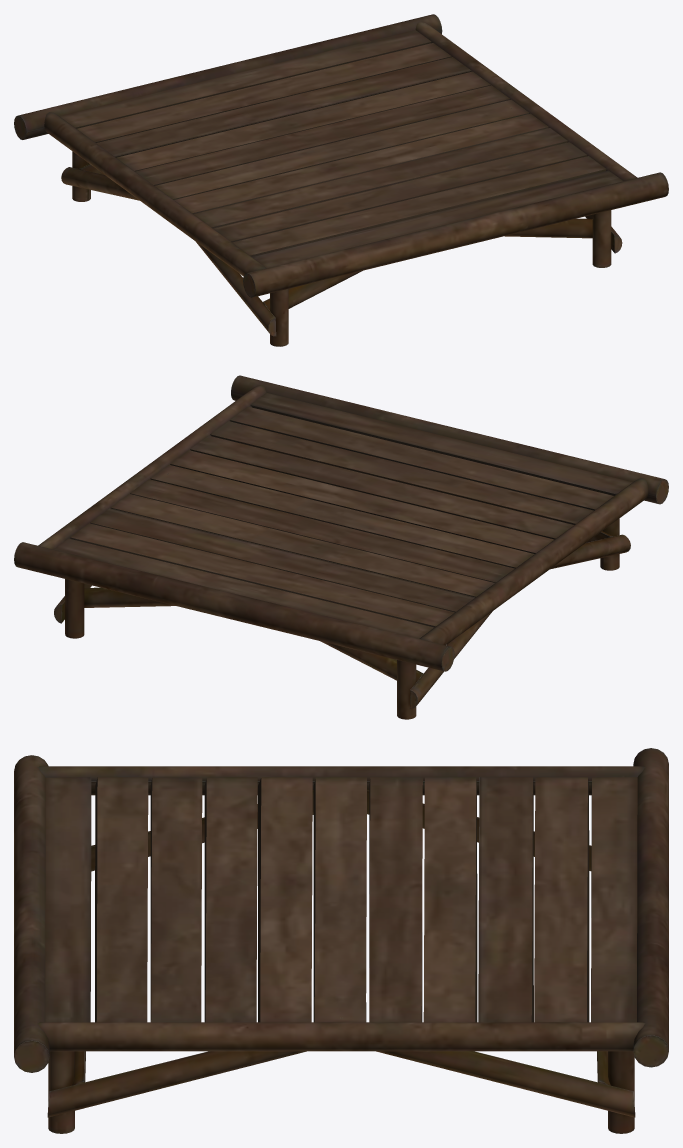
File: low_wooden_bench.glb
3 renders of one model, top to bottom at view 1: azimuth 30°, elevation 25°; view 2: azimuth 150°, elevation 25°; view 3: azimuth 270°, elevation 25°, orthographic. The views are drawn at different scales.
Parts seen in each view (by area): view 1: SM_Low_Wooden_Bench_M_Low_Wooden_Bench_0; view 2: SM_Low_Wooden_Bench_M_Low_Wooden_Bench_0; view 3: SM_Low_Wooden_Bench_M_Low_Wooden_Bench_0.
Part boxes in pixels (box(x1,y1,x2,y2)): SM_Low_Wooden_Bench_M_Low_Wooden_Bench_0: box(14, 14, 668, 346); SM_Low_Wooden_Bench_M_Low_Wooden_Bench_0: box(14, 375, 668, 719); SM_Low_Wooden_Bench_M_Low_Wooden_Bench_0: box(14, 748, 668, 1133).
Size of the model in its own units: 2.39 by 0.4655 by 2.26.
1 material, 1 textured.
